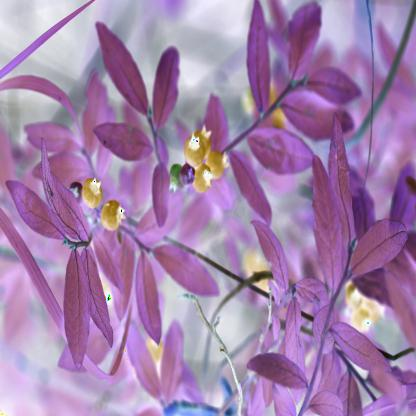blueberry leaf: (318, 308, 406, 410), (23, 141, 97, 254), (48, 245, 91, 392), (275, 80, 366, 148), (302, 153, 344, 297), (93, 24, 152, 118), (153, 239, 222, 307), (155, 28, 200, 131), (343, 221, 407, 293), (125, 255, 164, 360), (249, 215, 290, 299), (246, 6, 278, 112), (86, 120, 151, 170), (283, 294, 313, 390), (153, 146, 177, 250)
